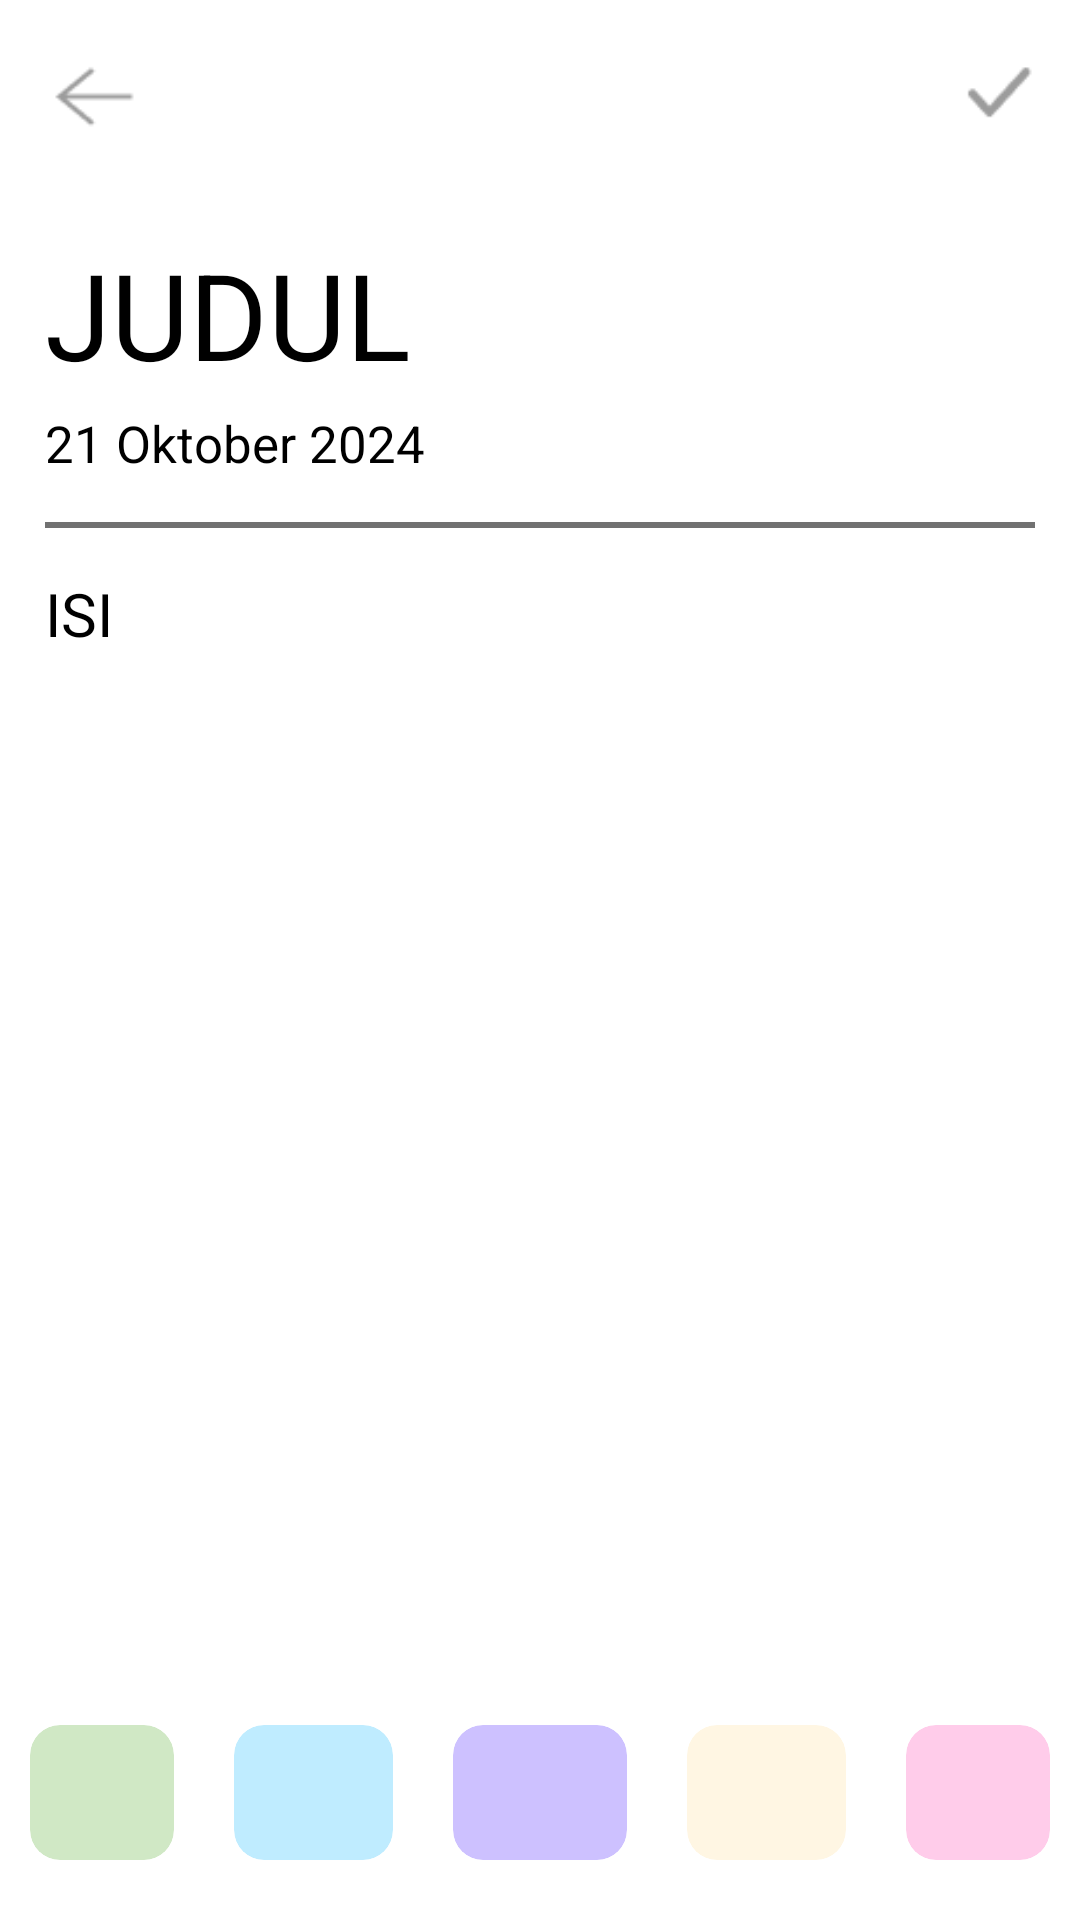

Where icons sit on this 1080×1920 app screen, as region(x1, y1, x2, y2):
back: region(56, 68, 133, 125)
done: region(968, 67, 1031, 117)
